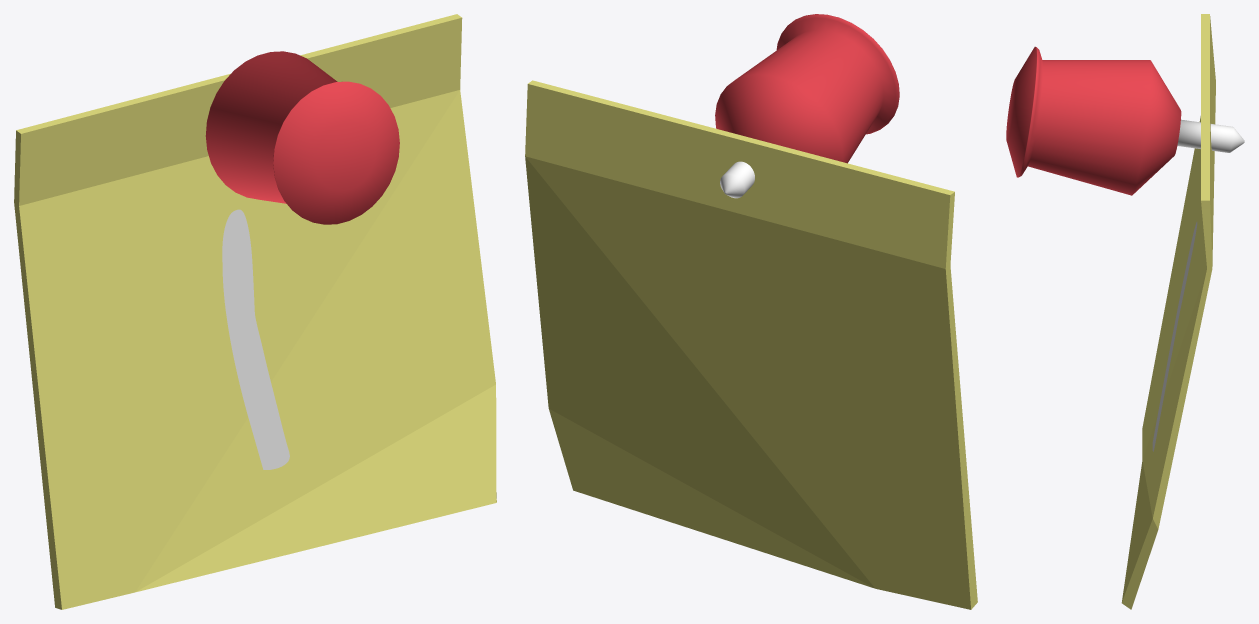
The model's file is level1.fbx.
3 renders of one model, left to right at view 1: azimuth 30°, elevation 25°; view 2: azimuth 150°, elevation 25°; view 3: azimuth 270°, elevation 25°, orthographic. The views are drawn at different scales.
Visible parts, largest first — view 1: SM_Prop_Note_04, pin.001, Text.001; view 2: SM_Prop_Note_04, pin.001; view 3: pin.001, SM_Prop_Note_04, Text.001.
Part boxes in pixels (x1,y1,x2,y2): SM_Prop_Note_04: (14,14,496,609); pin.001: (205,51,399,224); Text.001: (222,209,289,469); SM_Prop_Note_04: (525,80,977,609); pin.001: (715,14,899,198); pin.001: (1006,46,1244,195); SM_Prop_Note_04: (1121,14,1215,609); Text.001: (1152,222,1197,451).
Size of the model in its own units: 103 by 114 by 52.33.
